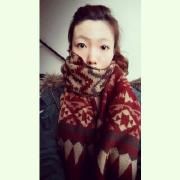WRONG: (72, 36, 118, 80)
